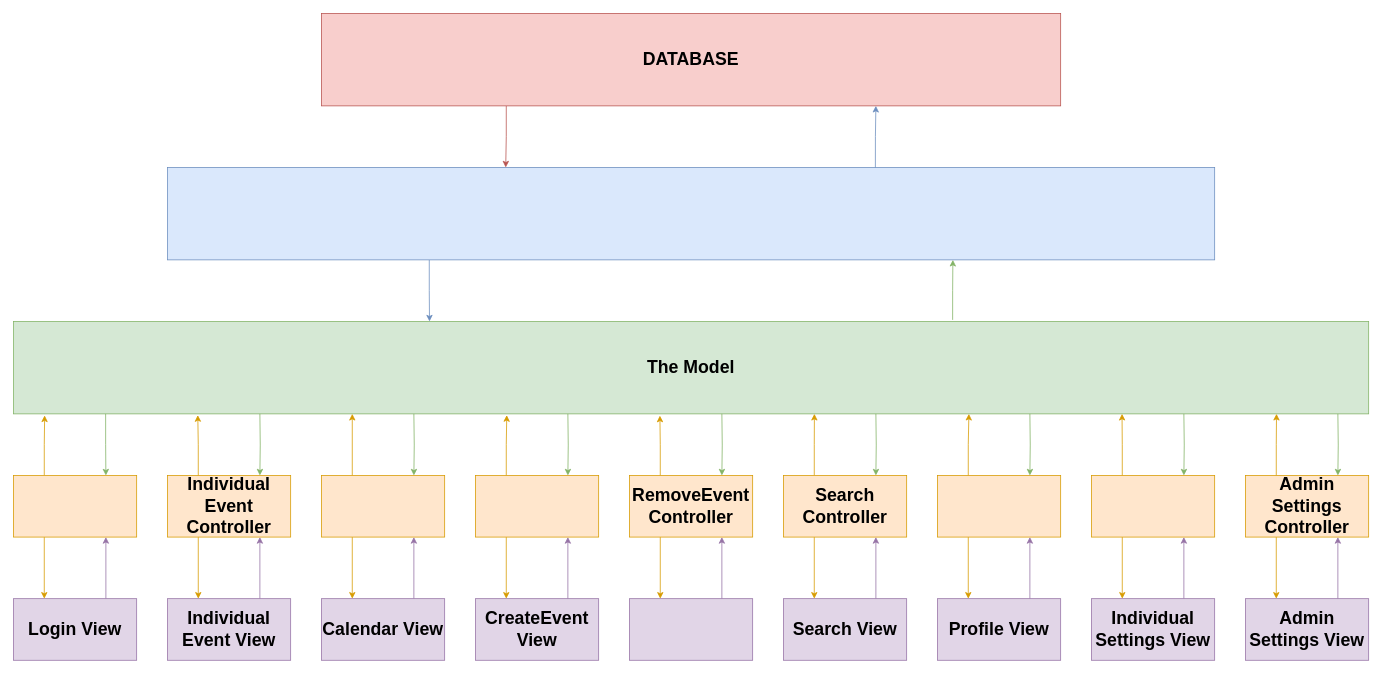
The diagram is 1382 pixels wide and 674 high, and some of its shapes have lost their labels. The shapes that lost their labels are listed below. From the top down, each one's box as (x1, y1, x2, y2) in pixels, then its label:
(167, 167, 1215, 260): SERVER
(13, 475, 137, 537): Login Controller
(321, 475, 445, 537): Calendar Controller
(475, 475, 599, 537): CreateEvent Controller
(937, 475, 1061, 537): Profile Controller
(1091, 475, 1215, 537): Individual Settings Controller
(629, 598, 753, 660): RemoveEvent View
